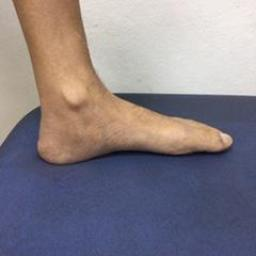Medial View -Left Foot-: (26, 66, 236, 175)
